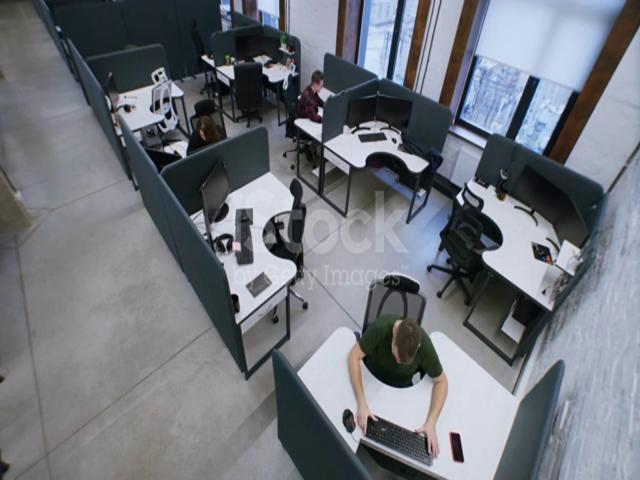empty chair: (448, 158, 488, 306), (284, 177, 314, 302), (144, 49, 177, 137), (227, 54, 265, 126), (187, 1, 213, 69)
occupiedchair: (352, 252, 452, 428), (278, 56, 339, 182), (183, 102, 236, 176)
